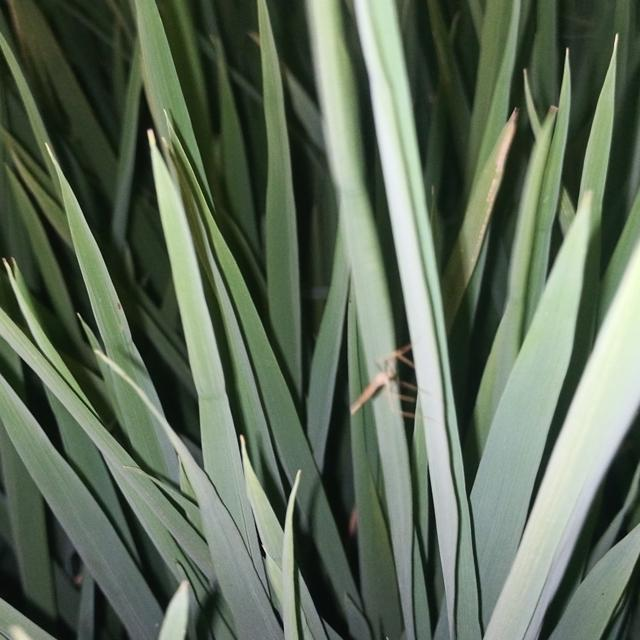green leaf hopper: (347, 337, 440, 432)
